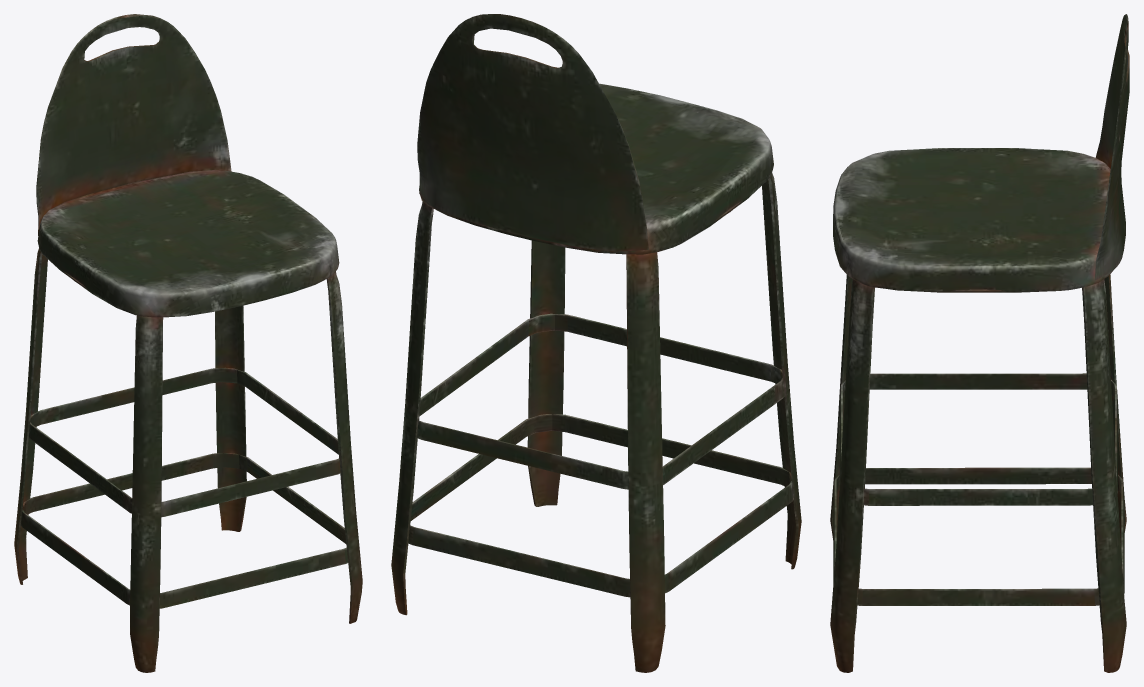
Rendered from metal_stool_03.glb.
3 renders of one model, left to right at view 1: azimuth 30°, elevation 25°; view 2: azimuth 150°, elevation 25°; view 3: azimuth 270°, elevation 25°, orthographic. The views are drawn at different scales.
Parts seen in each view (by area): view 1: metal_stool_03; view 2: metal_stool_03; view 3: metal_stool_03.
Part boxes in pixels (x1,y1,x2,y2): metal_stool_03: (14,14,362,672); metal_stool_03: (391,14,801,672); metal_stool_03: (830,14,1129,672).
Bounding box in the file's own units: 0.4606 × 1.02 × 0.4699.
Materials: 1 (1 with a texture image).
